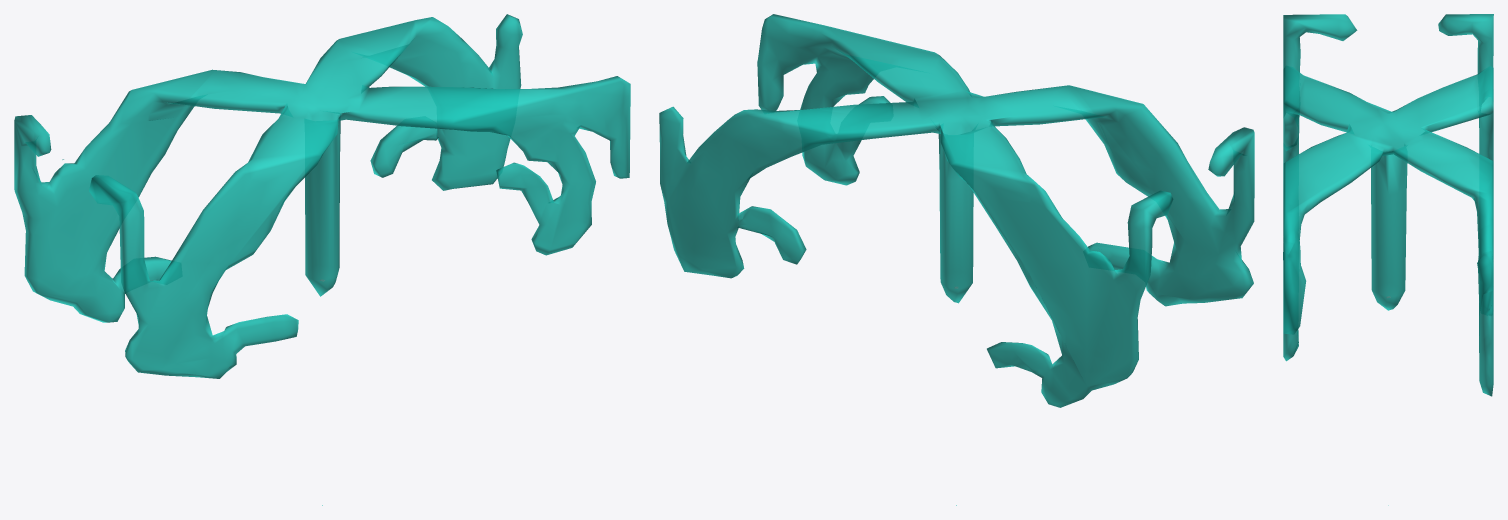
The picture shows the model from 3 angles, left to right: view 1: azimuth 30°, elevation 25°; view 2: azimuth 150°, elevation 25°; view 3: azimuth 270°, elevation 25°; orthographic projection. The views are drawn at different scales.
Visible parts, largest first — view 1: Liquid_Domain; view 2: Liquid_Domain; view 3: Liquid_Domain.
Part boxes in pixels (bbox=[...]): Liquid_Domain: bbox=[14, 14, 630, 378]; Liquid_Domain: bbox=[659, 14, 1254, 407]; Liquid_Domain: bbox=[1283, 14, 1493, 396].
Size of the model in its own units: 885 by 683 by 344.
